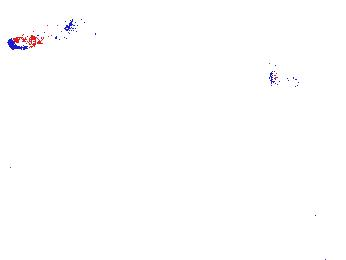X-ray fish: (61, 62, 102, 86)
glassfish: (222, 99, 327, 167)
red belly glassfish: (5, 19, 72, 52)
redtail glassfish: (266, 64, 303, 95)
